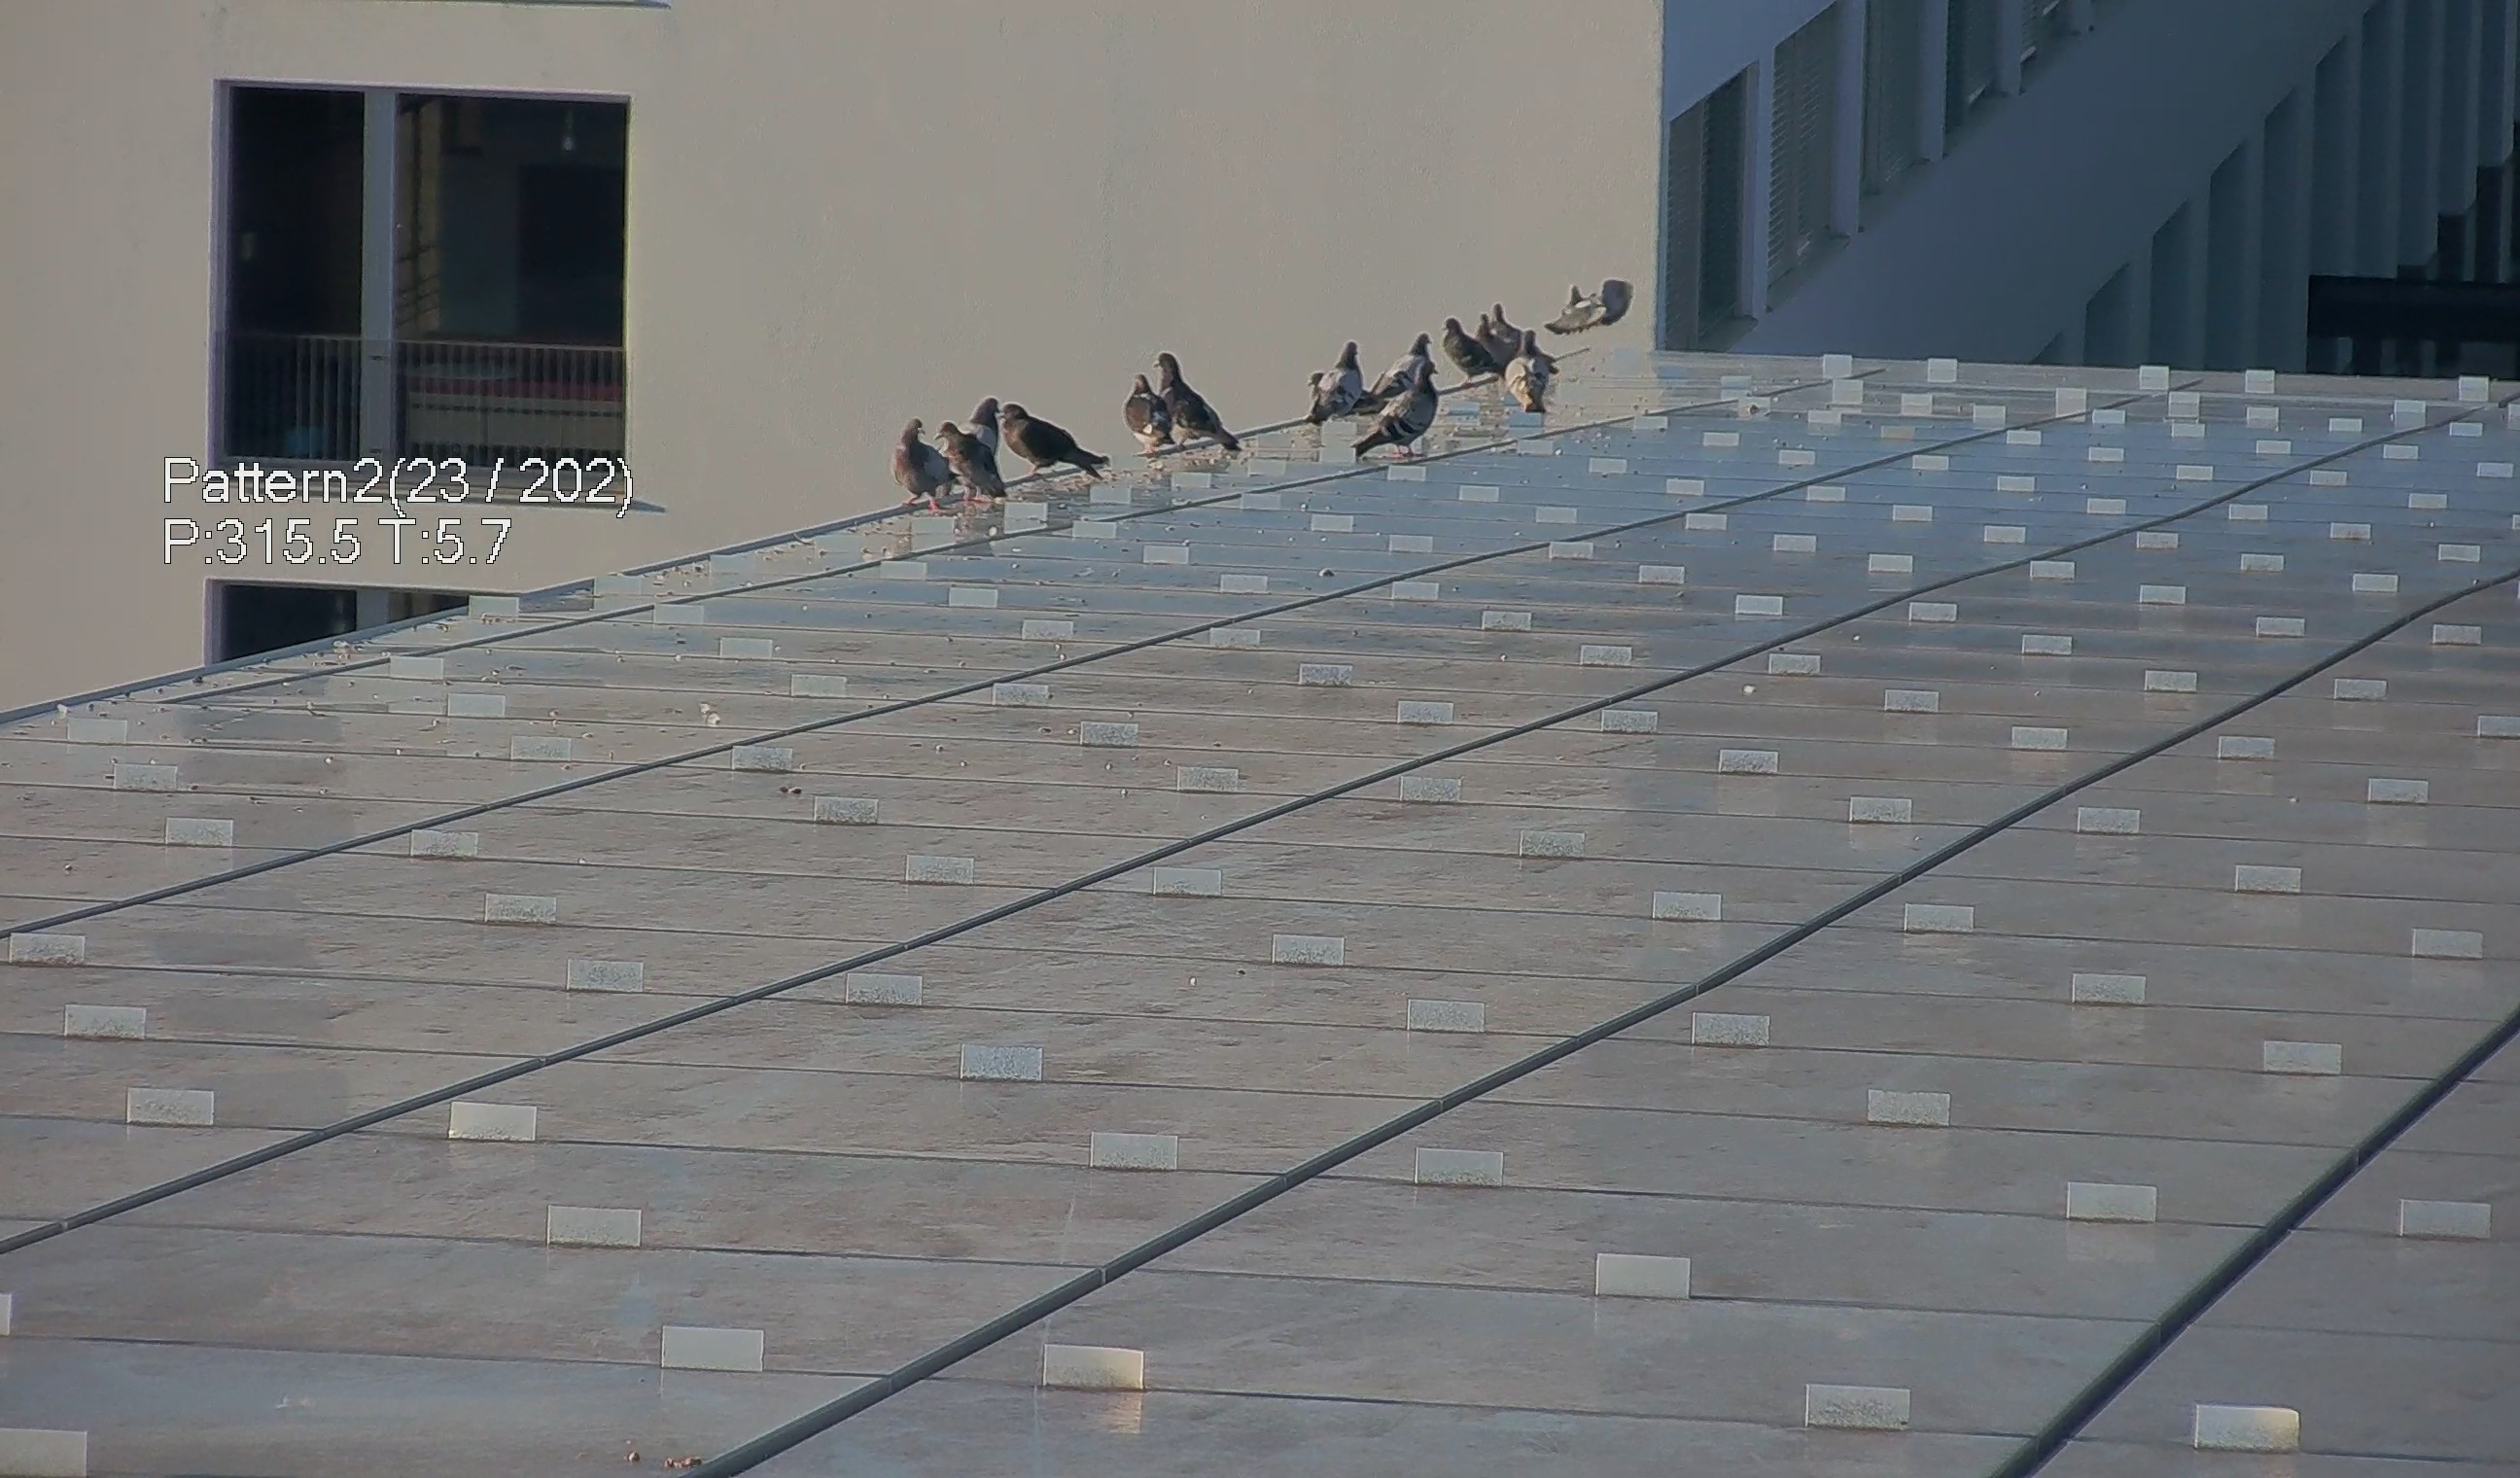Pigeon: (1351, 357, 1456, 461), (999, 396, 1110, 482), (1155, 350, 1247, 447), (886, 413, 962, 514), (1115, 364, 1187, 465), (936, 421, 1016, 505), (1540, 280, 1641, 343), (1303, 326, 1363, 428), (1500, 327, 1551, 429), (1438, 310, 1502, 389), (1368, 331, 1431, 396), (1475, 301, 1521, 375), (960, 389, 1006, 447)
